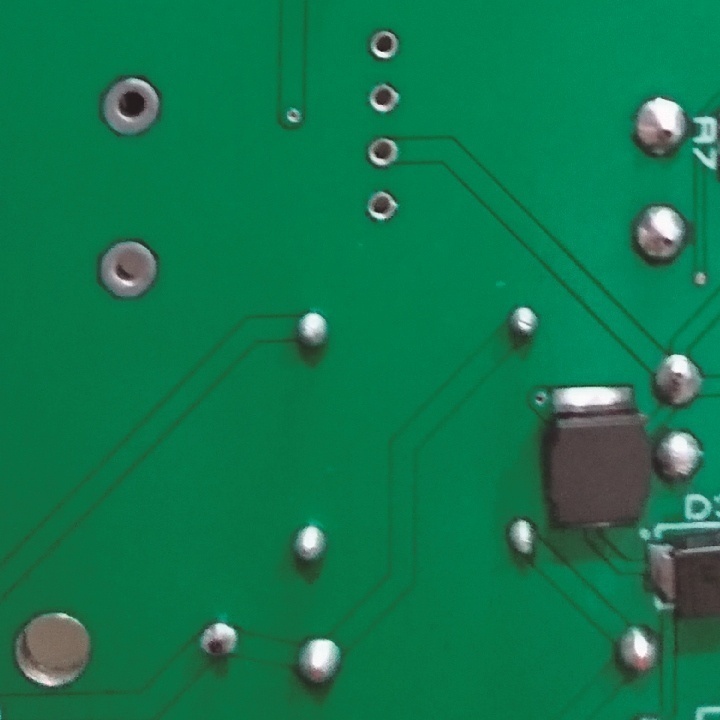F: (97, 74, 164, 142), (95, 238, 162, 301), (366, 26, 402, 63), (364, 187, 400, 224), (367, 133, 401, 171), (365, 82, 403, 113)
